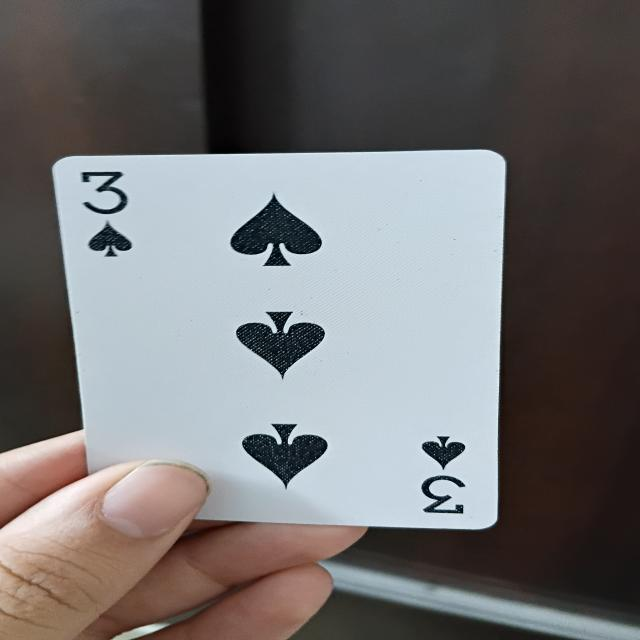3S: (59, 162, 496, 527)
